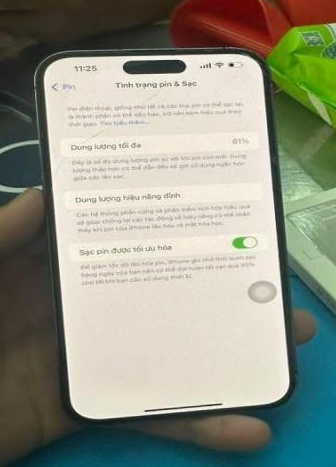physical_damage: (169, 47, 232, 86), (128, 78, 185, 119), (78, 110, 130, 144), (49, 138, 83, 185)
